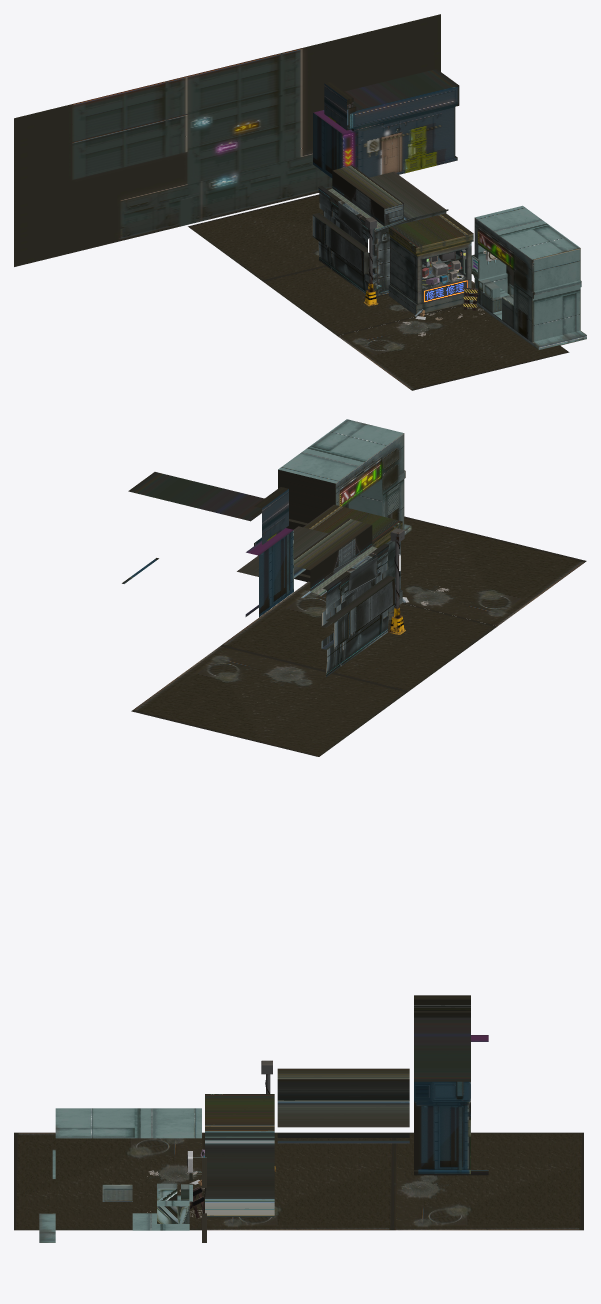
Rendered from Background.glb.
3 renders of one model, top to bottom at view 1: azimuth 30°, elevation 25°; view 2: azimuth 150°, elevation 25°; view 3: azimuth 270°, elevation 25°, orthographic. The views are drawn at different scales.
Visible parts, largest first — view 1: background, Store008, Store2, Floor, Store4, Floor002, Store3, Floor001, Store3_B, Props2, AdditionalProps; view 2: Floor002, Floor, Floor001, Store4, Store2, Store008, Store3, Props2; view 3: Floor002, Floor, Floor001, Store008, Store4, Store3, Store2.
Part boxes in pixels (x1,y1,x2,y2): background: [14, 14, 440, 266]; Store008: [313, 69, 459, 177]; Store2: [471, 205, 586, 349]; Floor: [337, 303, 569, 390]; Store4: [312, 165, 448, 297]; Floor002: [188, 194, 325, 280]; Store3: [388, 213, 473, 315]; Floor001: [262, 265, 474, 335]; Store3_B: [422, 249, 467, 303]; Props2: [363, 217, 485, 336]; AdditionalProps: [415, 250, 497, 319]; Floor002: [131, 646, 407, 756]; Floor: [401, 516, 586, 626]; Floor001: [221, 581, 497, 691]; Store4: [237, 518, 395, 677]; Store2: [278, 419, 411, 581]; Store008: [122, 472, 293, 617]; Store3: [301, 504, 402, 612]; Props2: [388, 528, 448, 634]; Floor002: [394, 1132, 583, 1230]; Floor: [14, 1132, 203, 1230]; Floor001: [204, 1132, 394, 1230]; Store008: [414, 995, 488, 1175]; Store4: [277, 1068, 409, 1143]; Store3: [205, 1094, 274, 1216]; Store2: [39, 1108, 206, 1242].
Size of the model in its own units: 983 by 339 by 900.
Materials: 11 (10 with a texture image).
